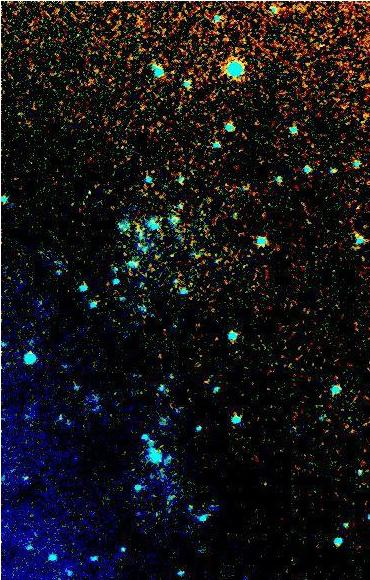star: (248, 227, 278, 257)
